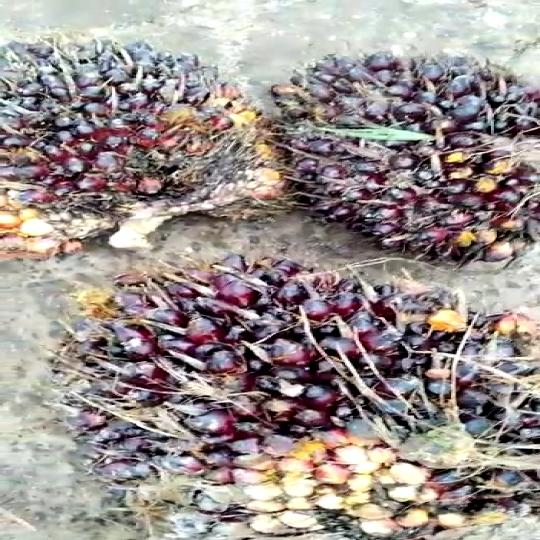kurang masak: (67, 258, 540, 540), (0, 34, 287, 272), (268, 52, 540, 265)
